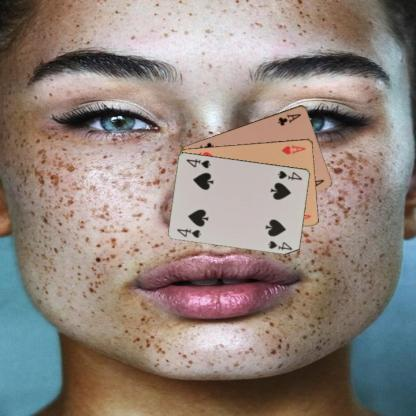4s: (275, 168, 303, 182), (175, 225, 202, 239)
Ac: (275, 111, 302, 127)
Ah: (279, 142, 307, 156)
